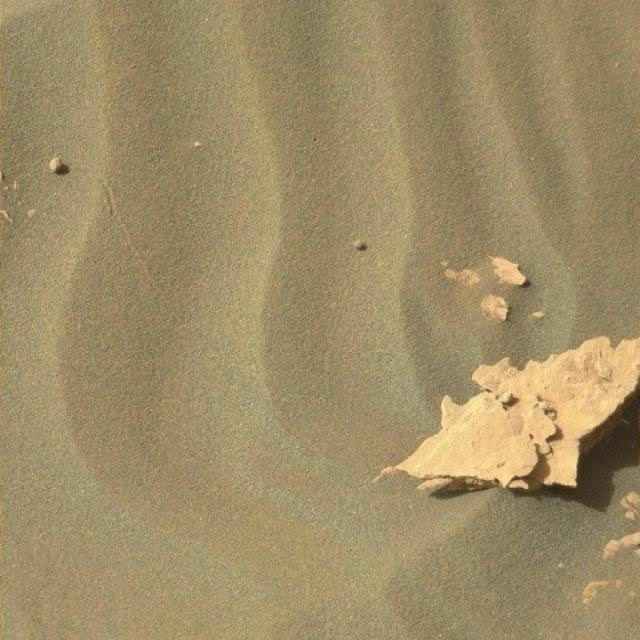rock: (380, 342, 640, 496), (509, 384, 640, 512), (432, 480, 494, 499)
